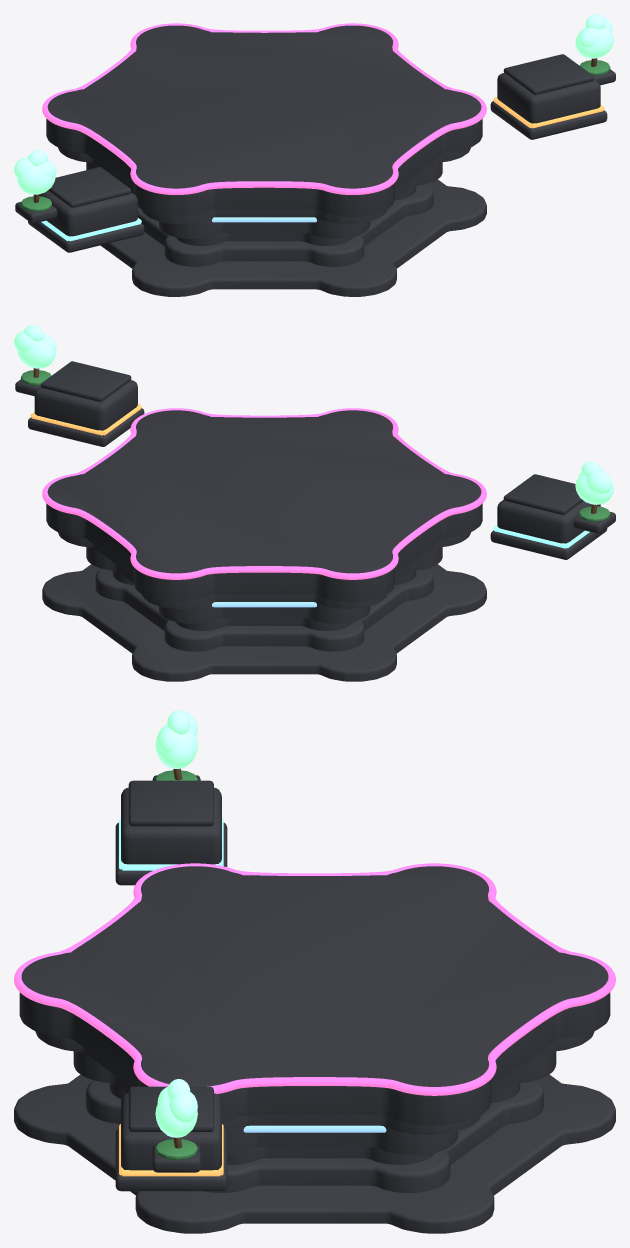
The model's file is platforms.glb.
The picture shows the model from 3 angles, top to bottom: view 1: azimuth 30°, elevation 25°; view 2: azimuth 150°, elevation 25°; view 3: azimuth 270°, elevation 25°; orthographic projection. The views are drawn at different scales.
Visible parts, largest first — view 1: Plat_Curb, Plat_Foot, Plat_MainDeck, Plat_Base, Plat_NeonRimPink, Plat_Waist, PlayerRival_Body, Plat_Collar, PlayerYou_Body, PlayerRival_Top, PlayerYou_Top, Plat_Waist2 (+6 smaller); view 2: Plat_Curb, Plat_Foot, Plat_MainDeck, Plat_Base, Plat_NeonRimPink, Plat_Waist, PlayerRival_Body, Plat_Collar, PlayerYou_Body, PlayerRival_Top, PlayerYou_Top, Plat_Waist2 (+5 smaller); view 3: Plat_Curb, Plat_Foot, Plat_MainDeck, Plat_Base, Plat_NeonRimPink, Plat_Waist, PlayerYou_Body, Plat_Collar, PlayerYou_Top, PlayerRival_Body, Plat_Waist2, PlayerRival_Top (+6 smaller).
Boxes of the visible parts, bbox=[...] form: Plat_Curb: bbox=[47, 25, 481, 188]; Plat_Foot: bbox=[100, 179, 486, 296]; Plat_MainDeck: bbox=[46, 119, 482, 216]; Plat_Base: bbox=[138, 183, 433, 266]; Plat_NeonRimPink: bbox=[42, 23, 486, 194]; Plat_Waist: bbox=[86, 162, 442, 238]; PlayerRival_Body: bbox=[497, 73, 600, 123]; Plat_Collar: bbox=[58, 147, 470, 223]; PlayerYou_Body: bbox=[39, 190, 137, 236]; PlayerRival_Top: bbox=[503, 54, 594, 94]; PlayerYou_Top: bbox=[48, 167, 131, 207]; Plat_Waist2: bbox=[176, 185, 416, 245]; Plat_Curb: bbox=[47, 410, 481, 573]; Plat_Foot: bbox=[42, 564, 486, 681]; Plat_MainDeck: bbox=[46, 503, 482, 601]; Plat_Base: bbox=[95, 568, 433, 651]; Plat_NeonRimPink: bbox=[42, 408, 486, 579]; Plat_Waist: bbox=[86, 547, 442, 623]; PlayerRival_Body: bbox=[34, 380, 137, 430]; Plat_Collar: bbox=[58, 532, 470, 608]; PlayerYou_Body: bbox=[497, 499, 600, 543]; PlayerRival_Top: bbox=[41, 361, 131, 401]; PlayerYou_Top: bbox=[503, 474, 583, 514]; Plat_Waist2: bbox=[112, 570, 416, 630]; Plat_Curb: bbox=[21, 866, 608, 1086]; Plat_Foot: bbox=[14, 1074, 615, 1233]; Plat_MainDeck: bbox=[19, 992, 610, 1125]; Plat_Base: bbox=[86, 1080, 543, 1192]; Plat_NeonRimPink: bbox=[14, 863, 615, 1095]; Plat_Waist: bbox=[73, 1051, 556, 1155]; PlayerYou_Body: bbox=[121, 787, 221, 864]; Plat_Collar: bbox=[35, 1031, 594, 1134]; PlayerYou_Top: bbox=[128, 780, 213, 826]; PlayerRival_Body: bbox=[121, 1093, 221, 1170]; Plat_Waist2: bbox=[109, 1083, 520, 1164]; PlayerRival_Top: bbox=[128, 1086, 213, 1131].
Bounding box in the file's own units: 8.76 × 2.34 × 5.66.
